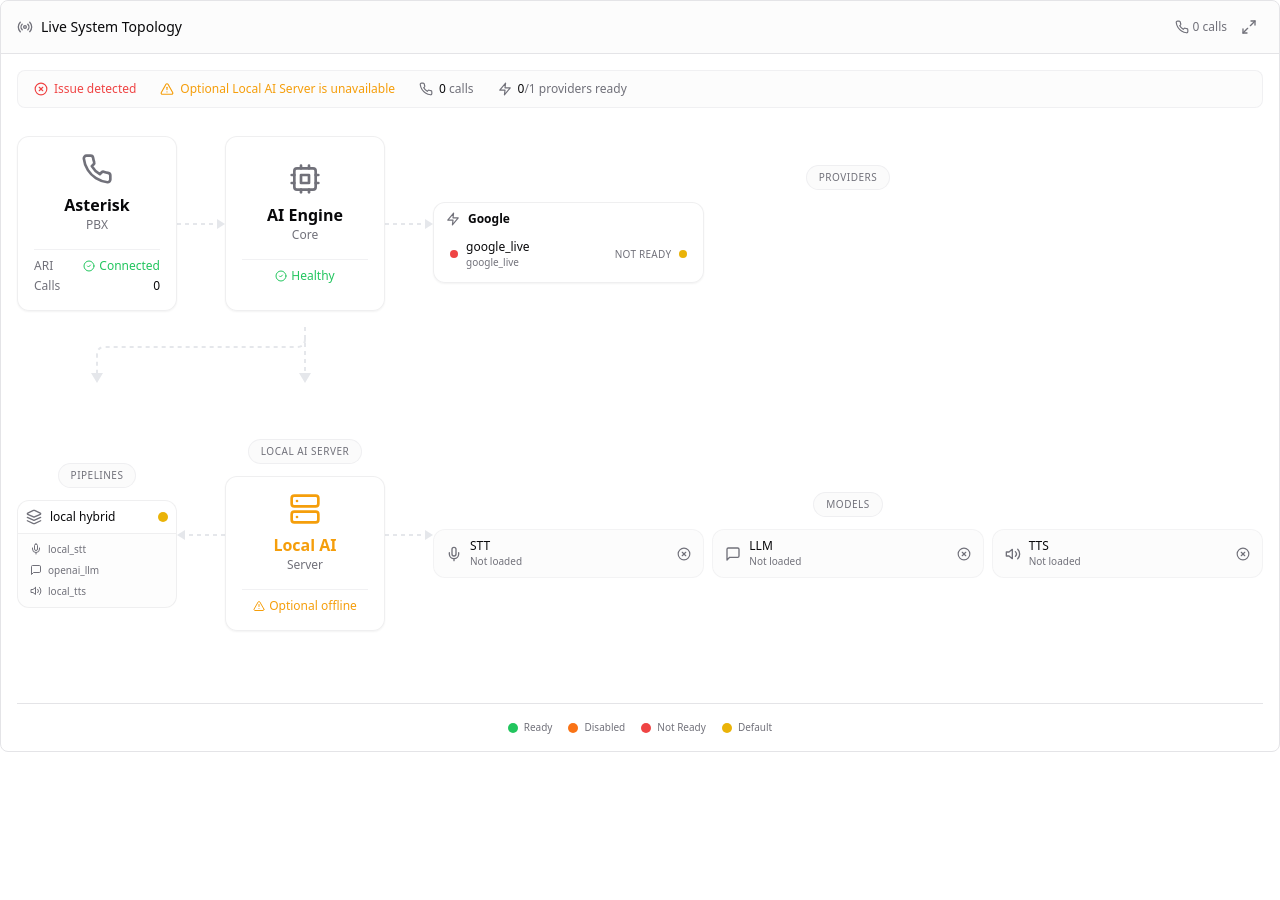
Test case: SystemTopology dashboard health › opens issue details from the summary when a real issue is detected
This screenshot has width=1280, height=900.
Step 1. Click the button "Issue detected" → (85, 89), box [34, 81, 136, 97]
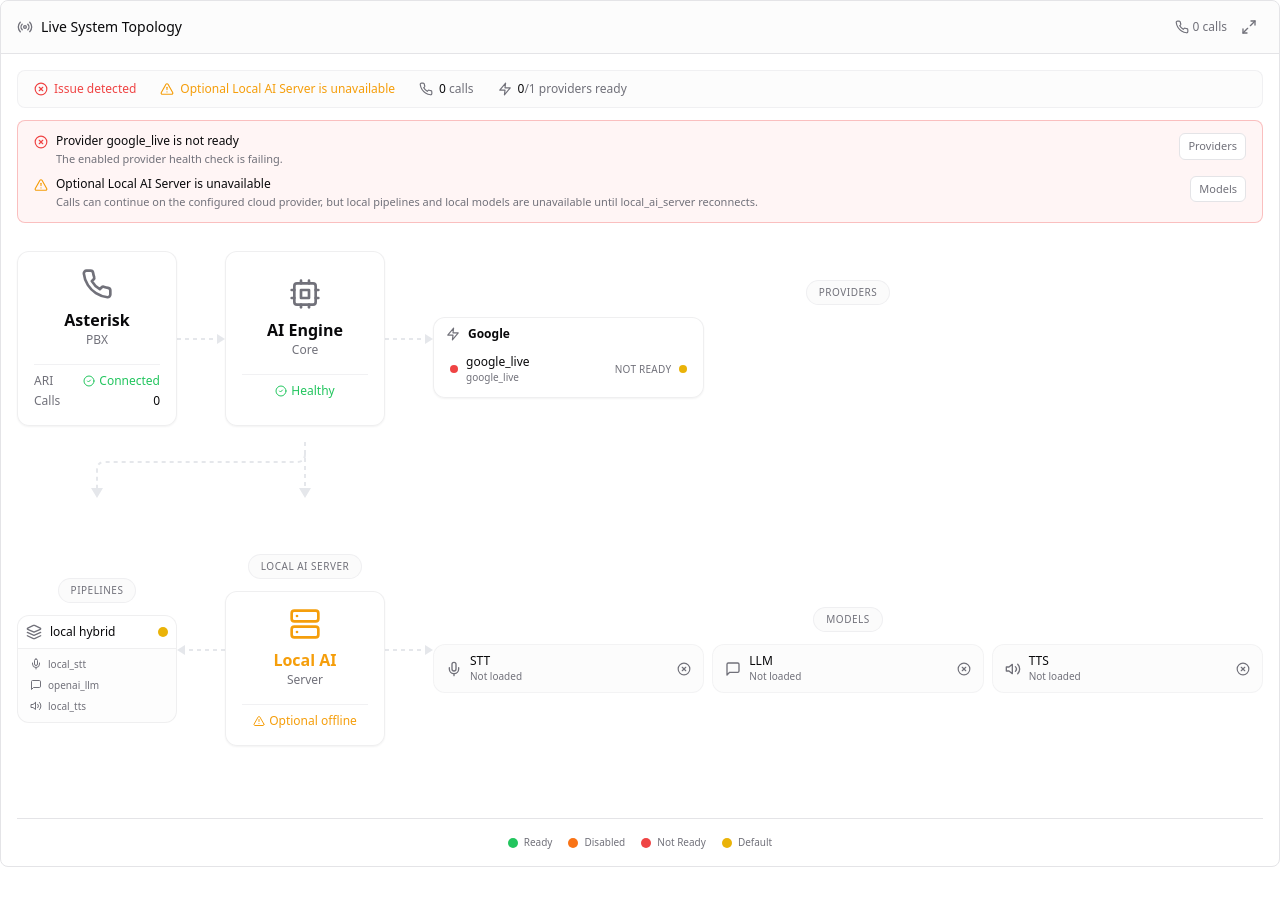
Now the text "Provider google_live is not ready" is shown, box [56, 132, 239, 149]
Now the text "The enabled provider health check is failing." is shown, box [56, 151, 283, 168]
Now the button "Providers" is shown, box [1179, 133, 1246, 160]
